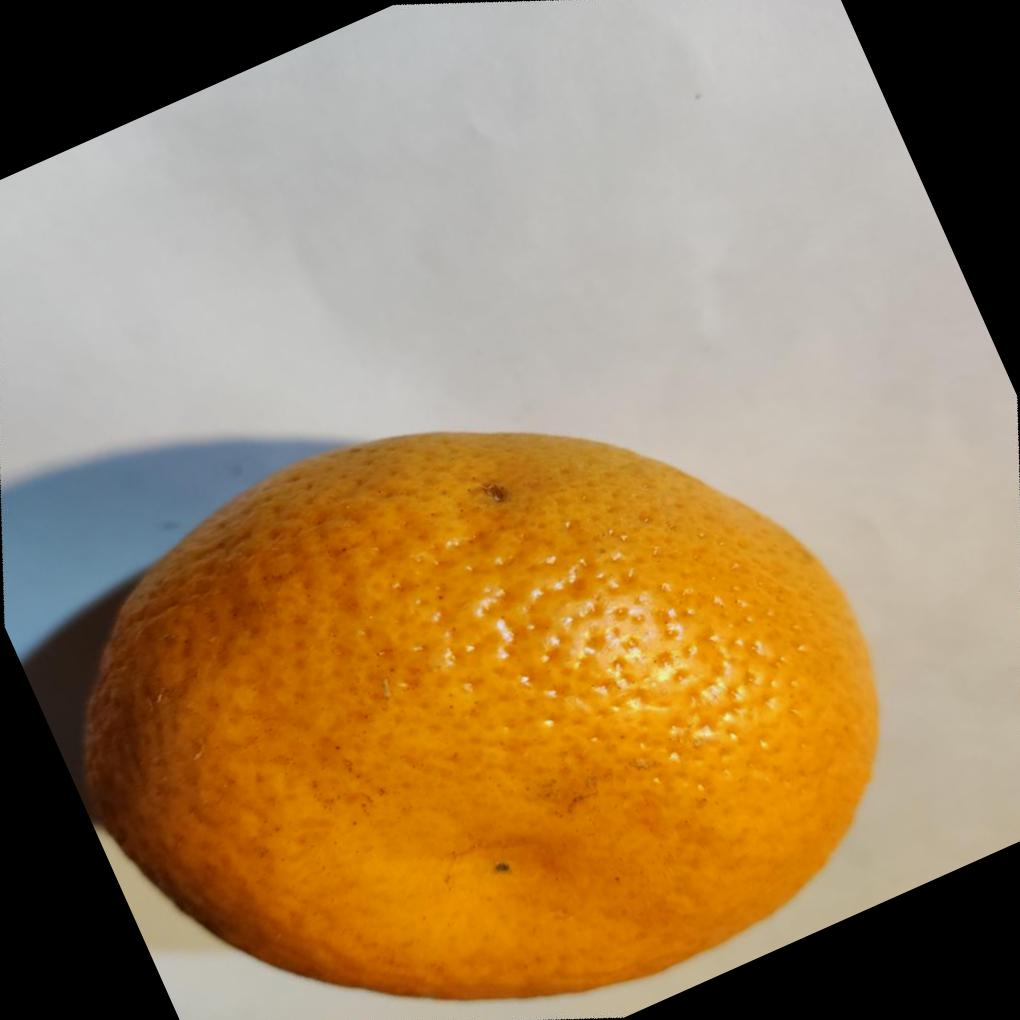FreshGuava: (76, 425, 880, 1001)
